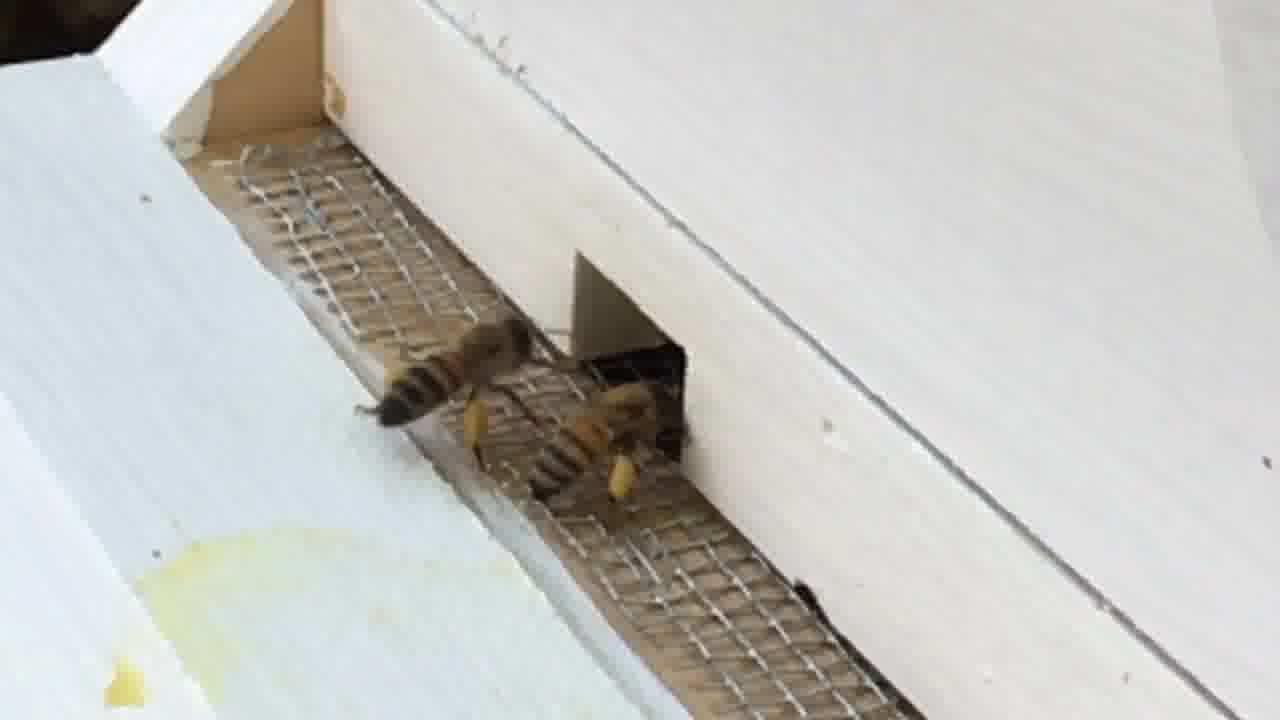pollen: (365, 316, 541, 448), (535, 376, 675, 503)
